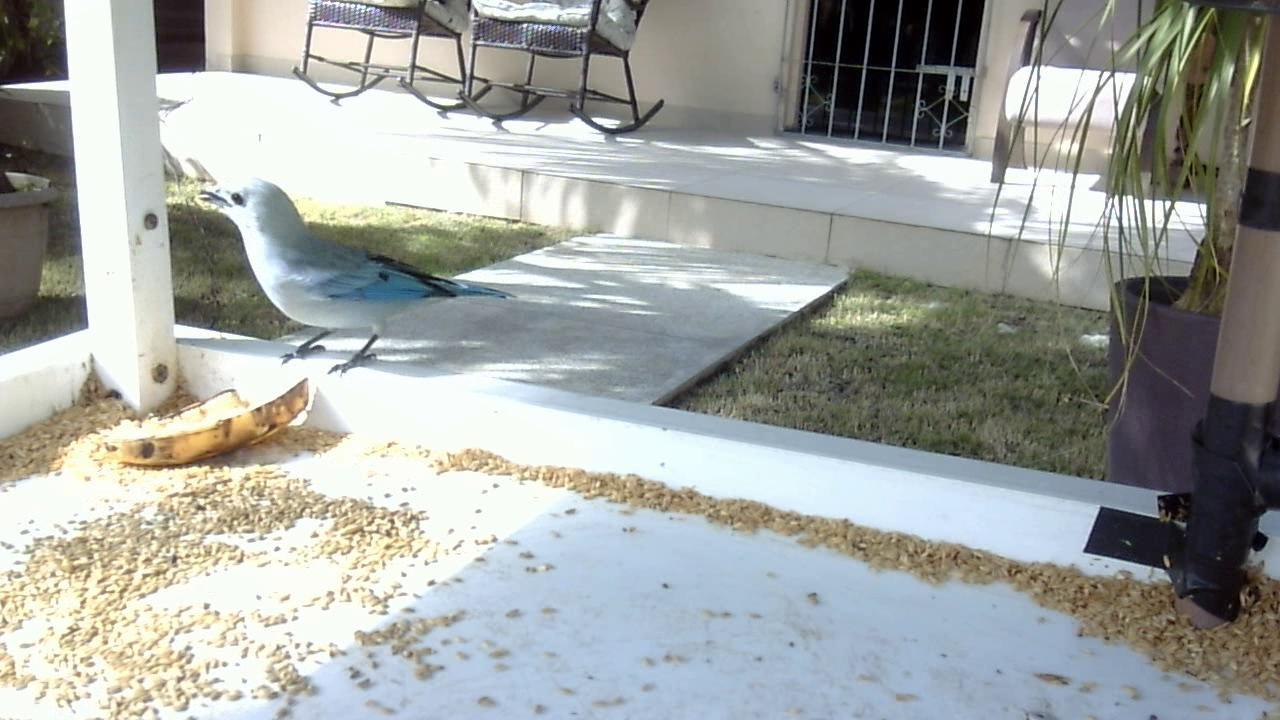sanhaco_da_amazonia: (192, 168, 529, 385)
